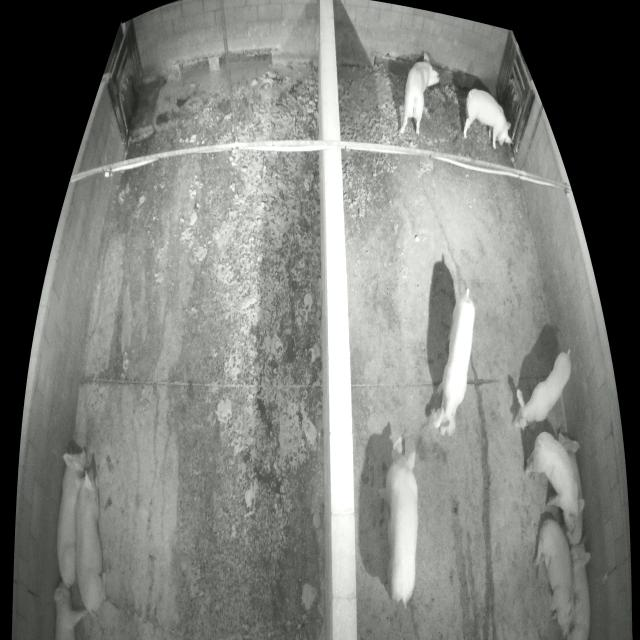pig: (378, 436, 417, 604), (525, 432, 585, 537), (532, 518, 583, 637), (432, 292, 474, 436), (511, 350, 572, 431), (75, 466, 107, 614), (56, 449, 88, 588), (398, 51, 439, 136), (463, 88, 512, 150), (558, 432, 583, 542), (568, 535, 590, 639), (54, 580, 87, 639)
